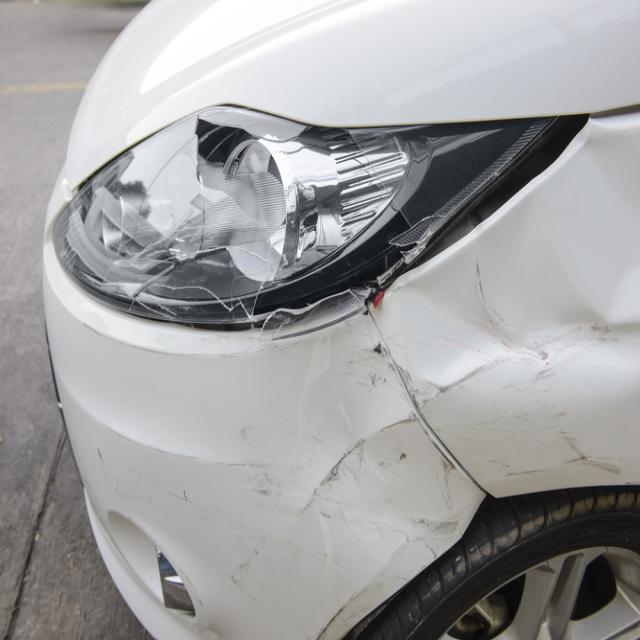Cabossage: (410, 121, 640, 424)
Phare abime: (42, 92, 445, 329)
Rayure: (298, 248, 640, 520), (222, 418, 287, 520)
